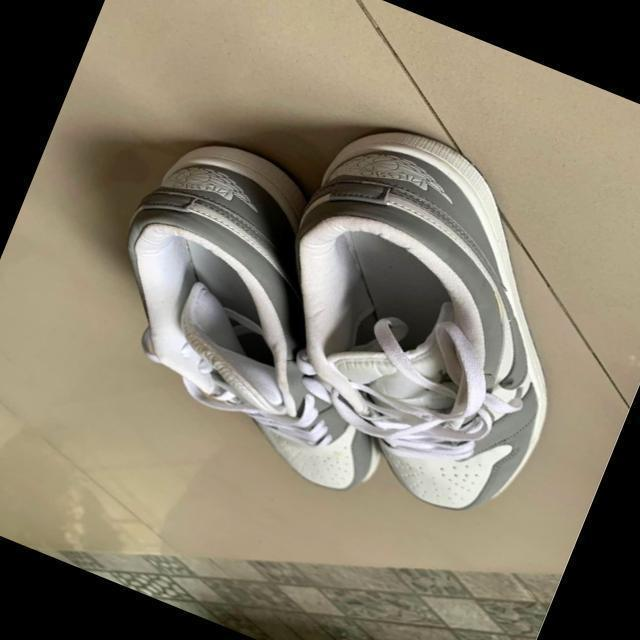nike fake jordan 1: (214, 80, 639, 536), (44, 106, 472, 502)
